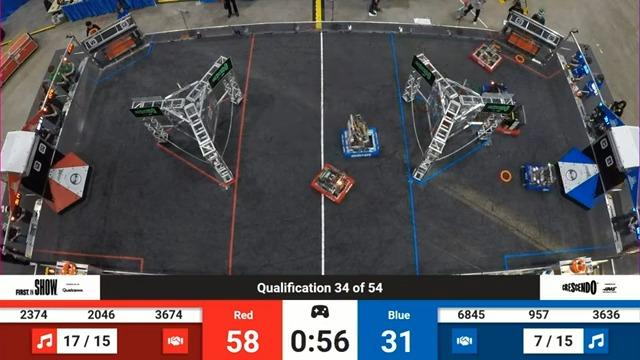robot: (305, 161, 354, 208), (334, 118, 382, 160), (516, 157, 561, 197), (482, 105, 530, 137), (473, 38, 504, 74), (476, 81, 512, 111)
